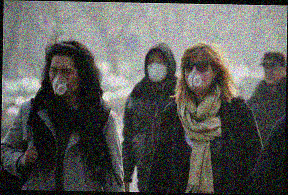with_mask: (48, 62, 78, 97), (185, 58, 214, 91), (146, 56, 167, 84)
without_mask: (262, 61, 282, 85)
